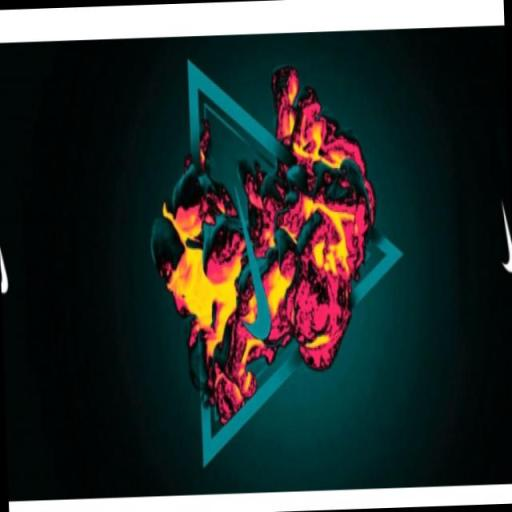Nike: (0, 217, 14, 304)
